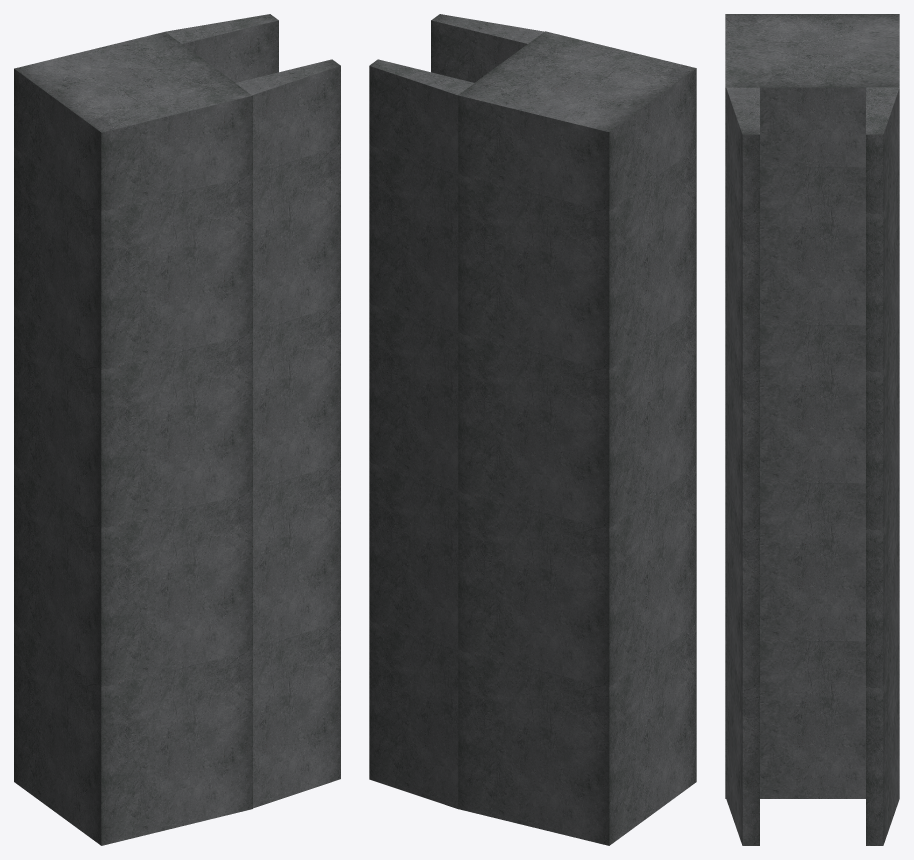
File: Frame.obj
3 renders of one model, left to right at view 1: azimuth 30°, elevation 25°; view 2: azimuth 150°, elevation 25°; view 3: azimuth 270°, elevation 25°, orthographic.
Parts seen in each view (by area): view 1: Frame; view 2: Frame; view 3: Frame.
Part boxes in pixels (x1,y1,x2,y2): Frame: [14, 14, 340, 845]; Frame: [369, 14, 696, 845]; Frame: [725, 14, 899, 845].
Bounding box in the file's own units: 1.64 × 4.5 × 1.
Materials: 1 (1 with a texture image).
